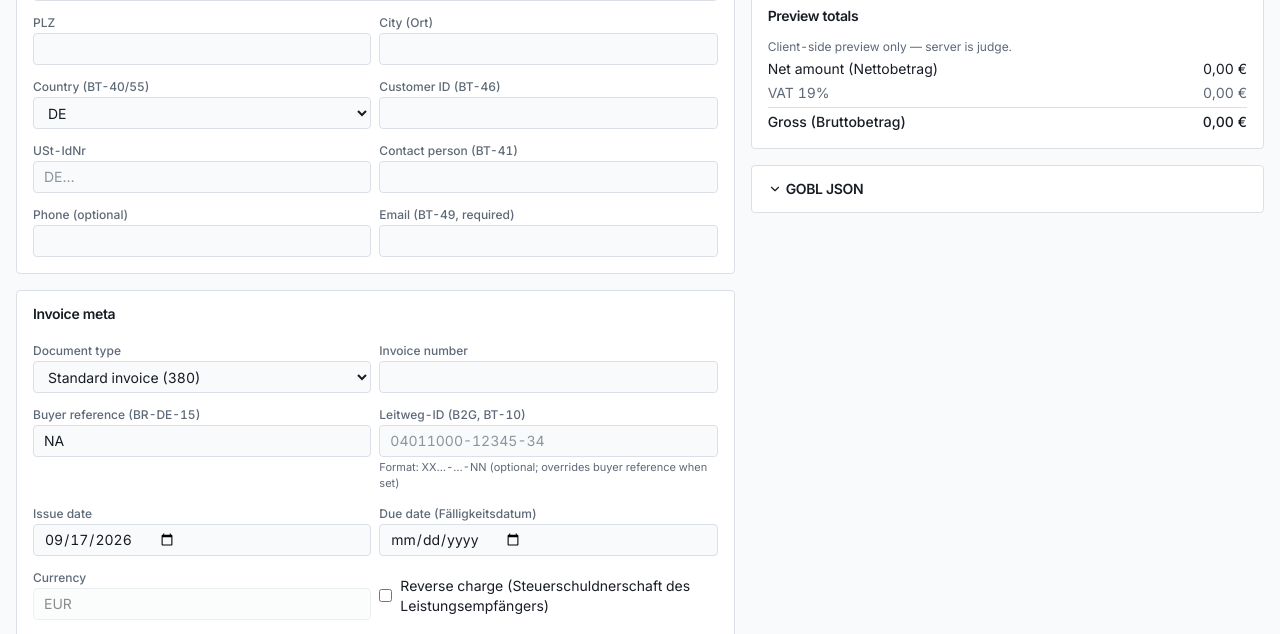
Test: NewInvoicePage › reveals preceding fields for credit note
This screenshot has width=1280, height=634.
(page scrolled)
Expected: the field labelled "Preceding invoice number" is not shown
Select "Credit note / Gutschrift (381)" in the dropdown labelled "Document type" at (202,376), box [33, 360, 371, 392]
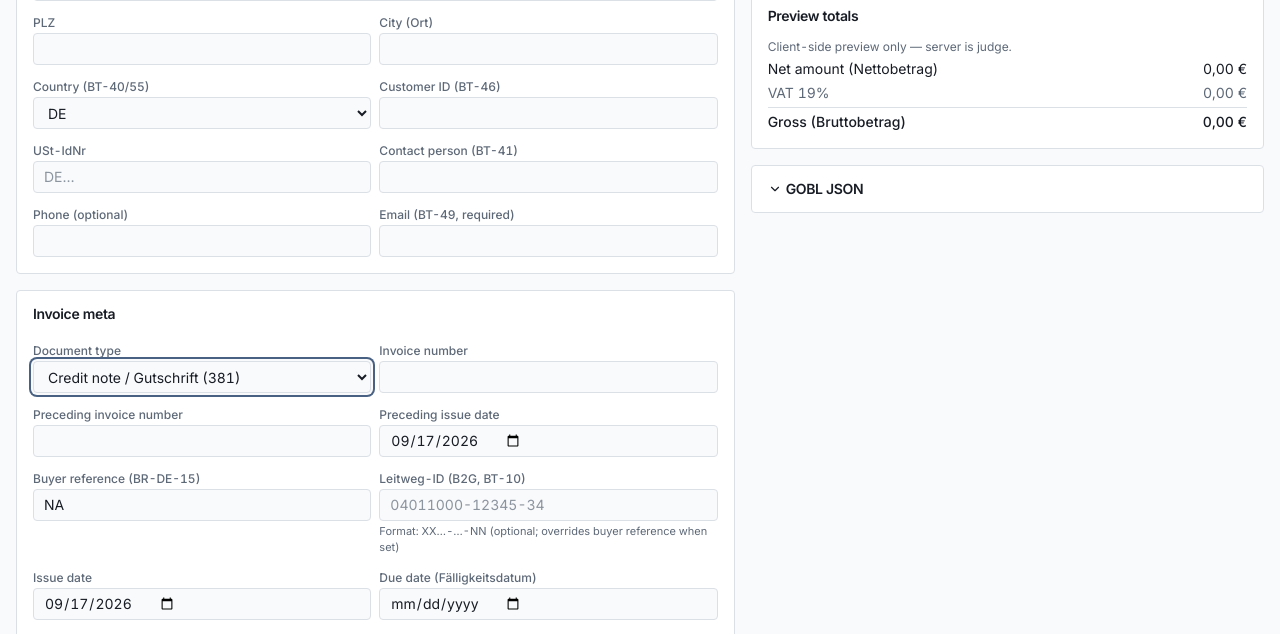
Expected: the field labelled "Preceding invoice number" is shown, [33, 424, 371, 456]
Expected: the date field labelled "Preceding issue date" is shown, [379, 424, 718, 456]
